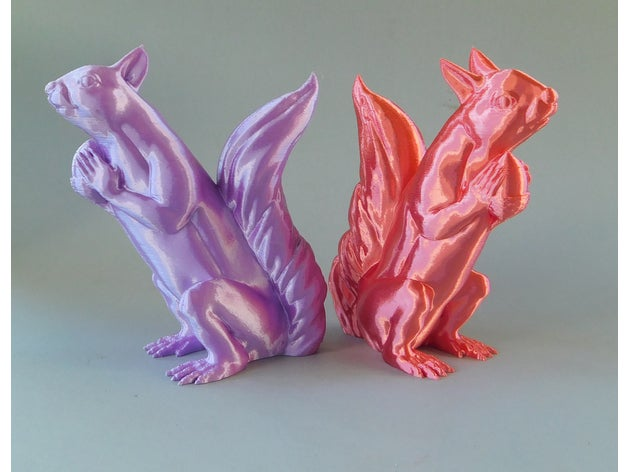Good: (27, 33, 575, 391)
